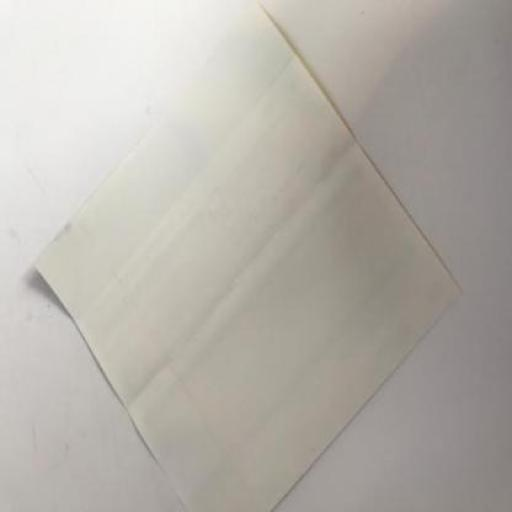paper: (31, 1, 460, 511)
